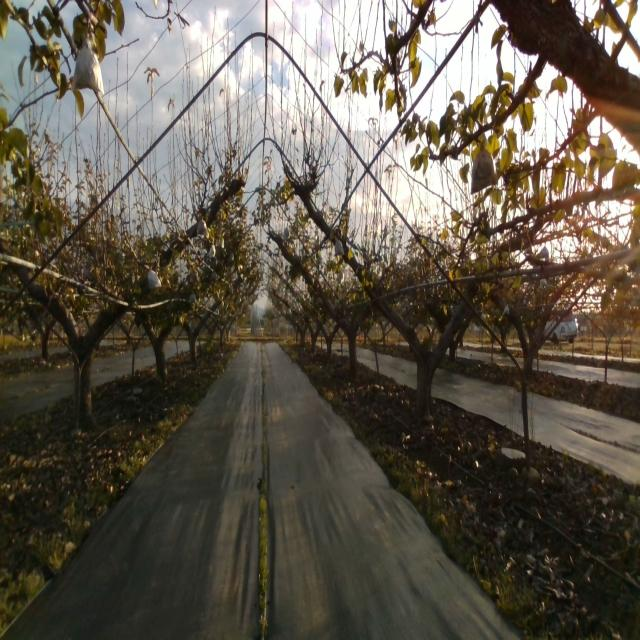pearbags: (470, 141, 498, 196), (71, 46, 101, 92), (148, 265, 162, 290), (333, 235, 345, 257), (196, 217, 208, 236)
